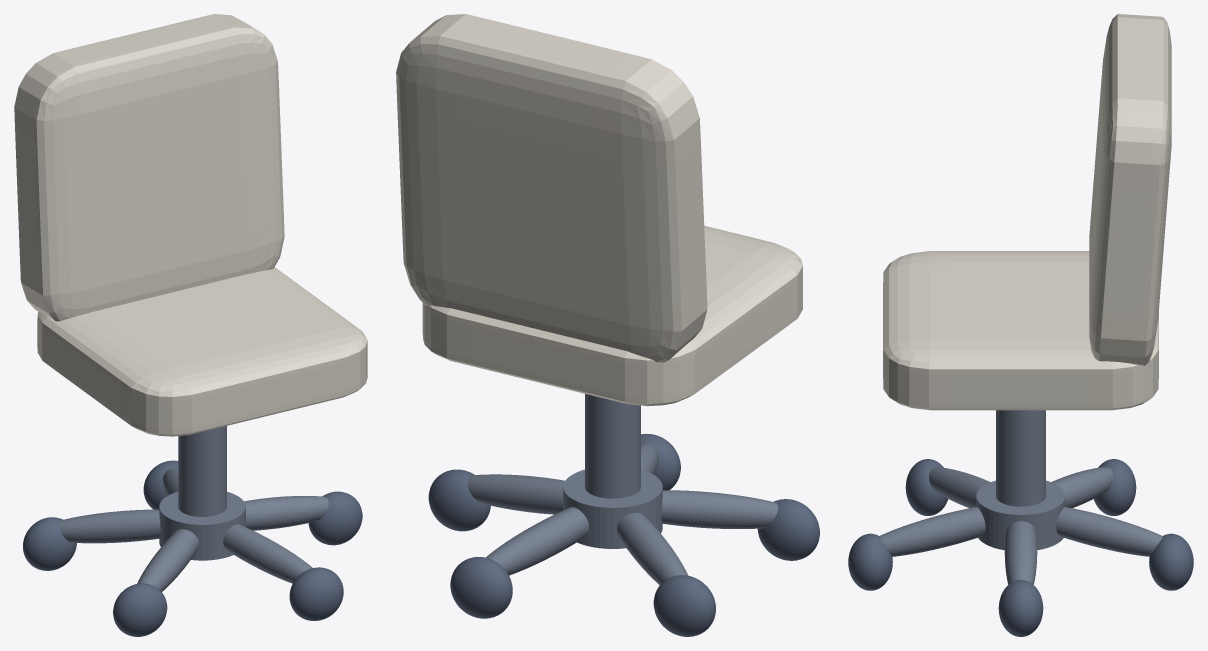
Rendered from chair.glb.
The picture shows the model from 3 angles, left to right: view 1: azimuth 30°, elevation 25°; view 2: azimuth 150°, elevation 25°; view 3: azimuth 270°, elevation 25°; orthographic projection. The views are drawn at different scales.
Visible parts, largest first — view 1: back, seat, stem, hub, spoke2, spoke4, spoke0, caster3, caster4, caster2, spoke3, caster0 (+1 smaller); view 2: back, seat, stem, hub, spoke3, spoke1, spoke0, caster1, caster2, caster3, spoke2, caster0 (+1 smaller); view 3: seat, back, stem, hub, spoke1, spoke4, caster0, caster1, caster4, spoke0, caster2, caster3 (+2 smaller).
Part boxes in pixels (box(x1,y1,x2,y2)): back: box(14, 14, 284, 321); seat: box(37, 267, 367, 436); stem: box(178, 426, 226, 516); hub: box(159, 491, 245, 560); spoke2: box(59, 509, 160, 543); spoke4: box(223, 524, 312, 583); spoke0: box(244, 496, 328, 530); caster3: box(113, 583, 167, 636); caster4: box(289, 567, 343, 620); caster2: box(23, 517, 76, 570); spoke3: box(137, 529, 198, 591); caster0: box(308, 491, 362, 545); back: box(396, 14, 707, 362); seat: box(422, 226, 802, 406); stem: box(585, 394, 640, 498); hub: box(563, 469, 662, 548); spoke3: box(661, 490, 778, 528); spoke1: box(486, 507, 588, 575); spoke0: box(467, 474, 564, 514); caster1: box(450, 557, 512, 618); caster2: box(653, 575, 715, 636); caster3: box(757, 499, 819, 560); spoke2: box(617, 513, 688, 585); caster0: box(428, 469, 490, 531); seat: box(883, 251, 1158, 410); back: box(1089, 14, 1171, 365); stem: box(996, 410, 1045, 506); hub: box(976, 480, 1065, 550); spoke1: box(1056, 507, 1162, 556); spoke4: box(879, 507, 985, 556); caster0: box(998, 580, 1043, 636); caster1: box(1149, 533, 1193, 590); caster4: box(848, 533, 892, 590); spoke0: box(1004, 521, 1037, 584); caster2: box(1093, 459, 1136, 515); caster3: box(905, 459, 948, 515).
Bounding box in the file's own units: 0.8515 × 1.39 × 0.8518.
